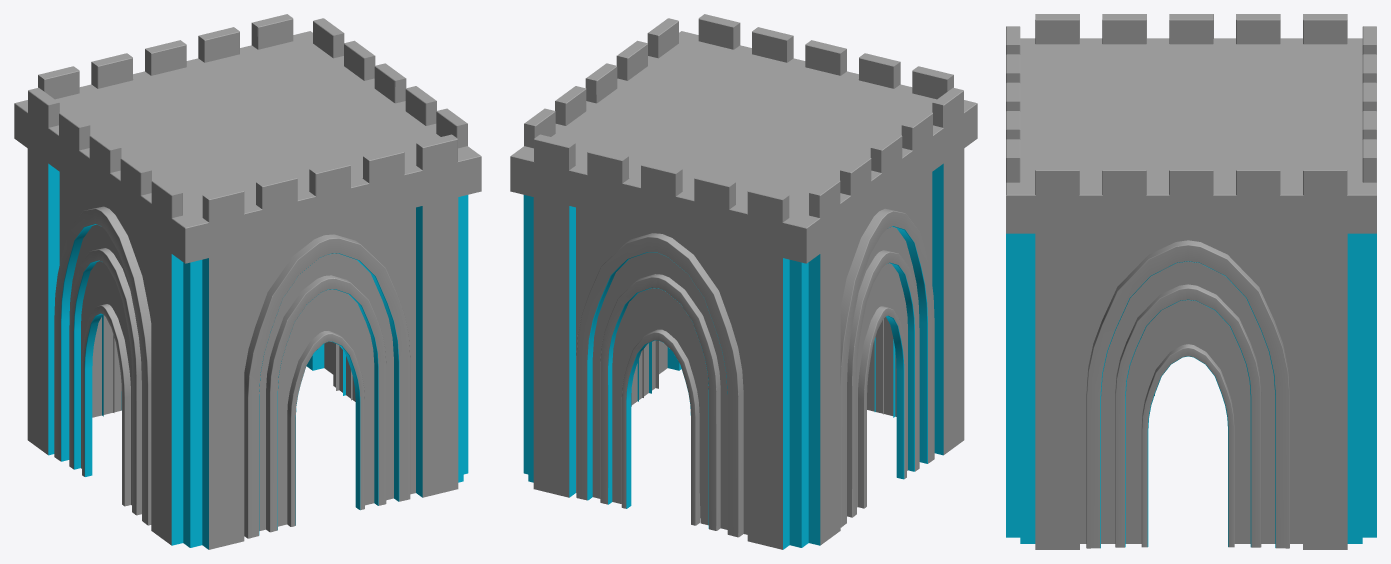
The model's file is BuildingPiece_4.fbx.
The picture shows the model from 3 angles, left to right: view 1: azimuth 30°, elevation 25°; view 2: azimuth 150°, elevation 25°; view 3: azimuth 270°, elevation 25°; orthographic projection. The views are drawn at different scales.
Parts seen in each view (by area): view 1: BuildingPiece_4; view 2: BuildingPiece_4; view 3: BuildingPiece_4.
Part boxes in pixels (x1,y1,x2,y2): BuildingPiece_4: [14, 14, 481, 549]; BuildingPiece_4: [510, 14, 977, 549]; BuildingPiece_4: [1006, 14, 1376, 549].
Bounding box in the file's own units: 33.8 × 38.15 × 33.8.
